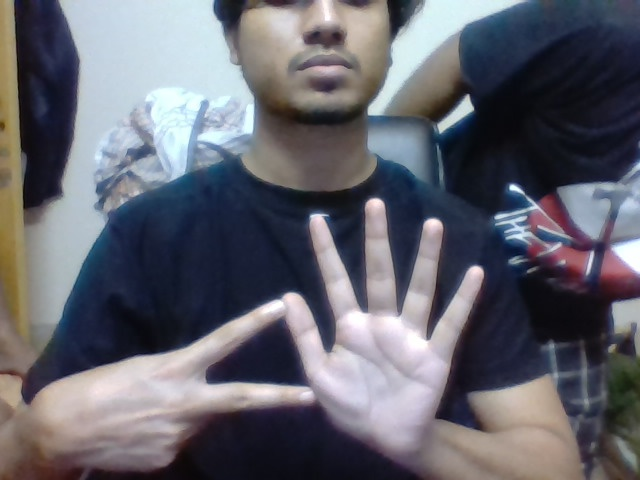N: (177, 297, 281, 421)
